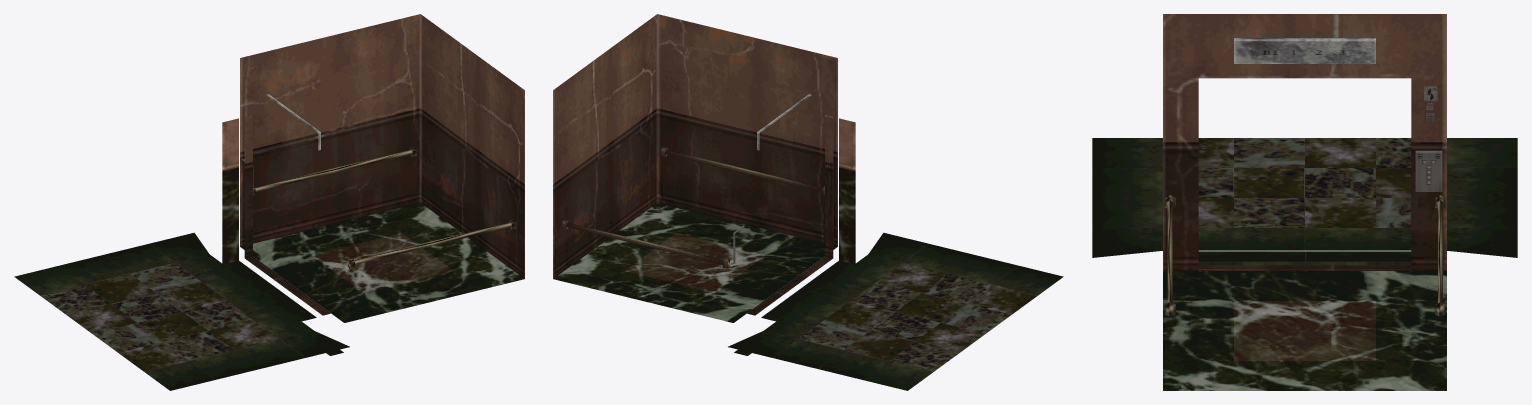
The model's file is ERFFFF.glb.
The picture shows the model from 3 angles, left to right: view 1: azimuth 30°, elevation 25°; view 2: azimuth 150°, elevation 25°; view 3: azimuth 270°, elevation 25°; orthographic projection. The views are drawn at different scales.
Parts seen in each view (by area): view 1: NL1_m1, NL_BACK2_m0, NL1_m0, NL_NEAR_m0, NL_NEAR_m1; view 2: NL1_m0, NL_BACK2_m0, NL1_m1, NL_NEAR_m0, NL_NEAR_m1; view 3: NL1_m1, NL_BACK2_m0, NL_NEAR_m0, NL_NEAR_m1.
Part boxes in pixels (left/top/right/bottom): NL1_m1: left=240, top=14, right=524, bottom=322; NL_BACK2_m0: left=14, top=118, right=349, bottom=390; NL1_m0: left=420, top=14, right=524, bottom=278; NL_NEAR_m0: left=242, top=94, right=416, bottom=195; NL_NEAR_m1: left=347, top=219, right=516, bottom=268; NL1_m0: left=553, top=14, right=837, bottom=278; NL_BACK2_m0: left=728, top=118, right=1063, bottom=390; NL1_m1: left=553, top=115, right=837, bottom=322; NL_NEAR_m0: left=561, top=94, right=811, bottom=268; NL_NEAR_m1: left=660, top=147, right=824, bottom=195; NL1_m1: left=1163, top=14, right=1446, bottom=390; NL_BACK2_m0: left=1092, top=138, right=1517, bottom=265; NL_NEAR_m0: left=1234, top=38, right=1445, bottom=316; NL_NEAR_m1: left=1164, top=195, right=1175, bottom=316.
Bounding box in the file's own units: 6.75 × 3.7 × 4.8.
Materials: 11 (11 with a texture image).
